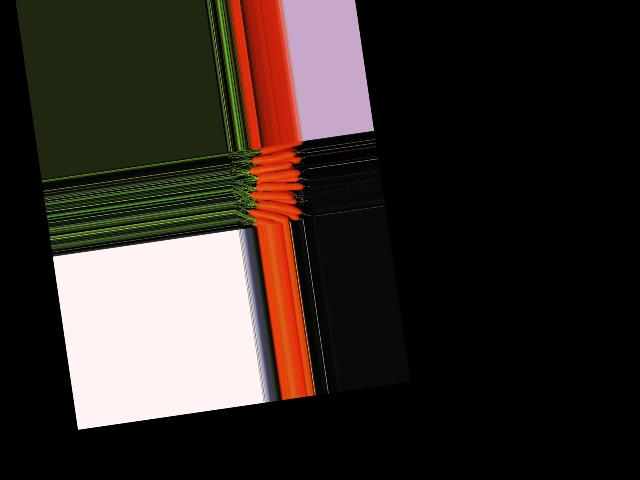carrot: (249, 207, 292, 221)
